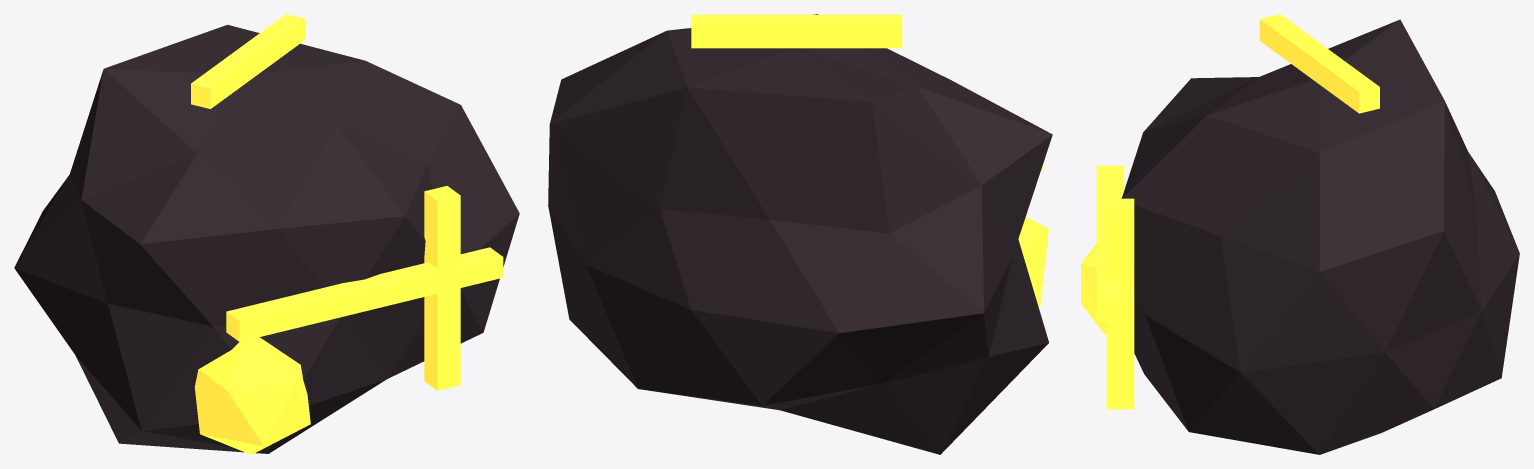
Rendered from lava_rock.fbx.
3 views of the same model, side by side, from view 1: azimuth 30°, elevation 25°; view 2: azimuth 150°, elevation 25°; view 3: azimuth 270°, elevation 25° (orthographic). The views are drawn at different scales.
Parts seen in each view (by area): view 1: Lava_rock; view 2: Lava_rock; view 3: Lava_rock.
Part boxes in pixels (x1,y1,x2,y2): Lava_rock: (14,14,519,454); Lava_rock: (548,14,1052,454); Lava_rock: (1081,14,1519,454).
Bounding box in the file's own units: 2.64 × 2.09 × 2.2.
